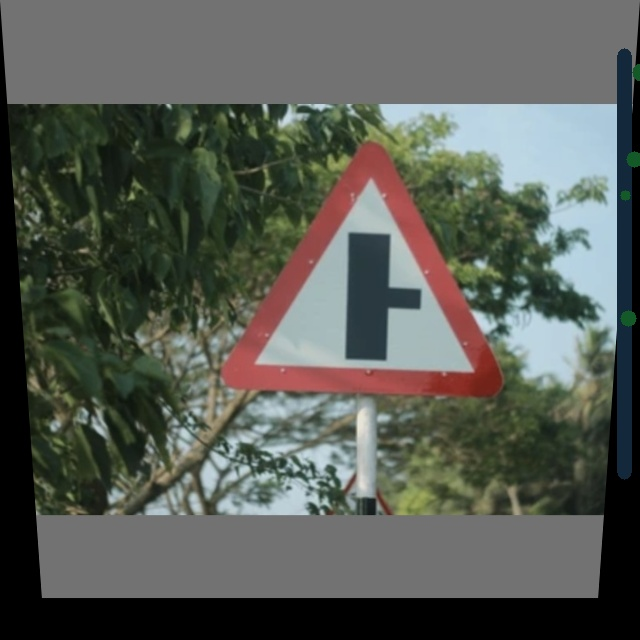Side_Road_Right: (232, 146, 509, 398)
